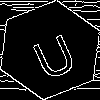U: (25, 25, 81, 82)
